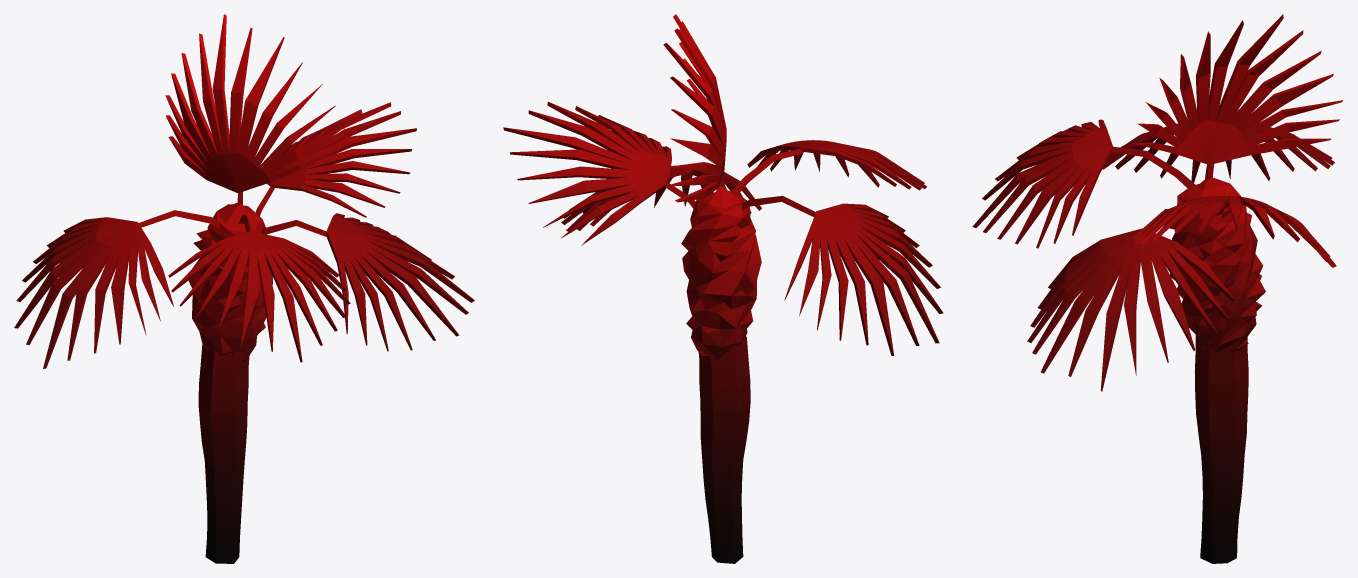
Rendered from TreeWindmill02.fbx.
3 views of the same model, side by side, from view 1: azimuth 30°, elevation 25°; view 2: azimuth 150°, elevation 25°; view 3: azimuth 270°, elevation 25° (orthographic). The views are drawn at different scales.
Parts seen in each view (by area): view 1: TreeWindmill02_LOD0; view 2: TreeWindmill02_LOD0; view 3: TreeWindmill02_LOD0.
Part boxes in pixels (x1,y1,x2,y2): TreeWindmill02_LOD0: (14, 14, 474, 563); TreeWindmill02_LOD0: (503, 14, 943, 563); TreeWindmill02_LOD0: (972, 14, 1343, 563).
Size of what is drawn, in the model's own units: 449 by 566 by 341.
